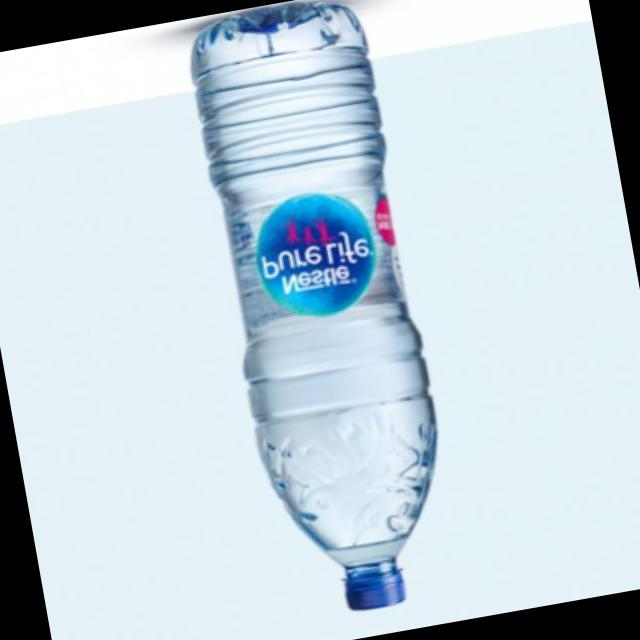plastic_bottle: (180, 0, 467, 624)
